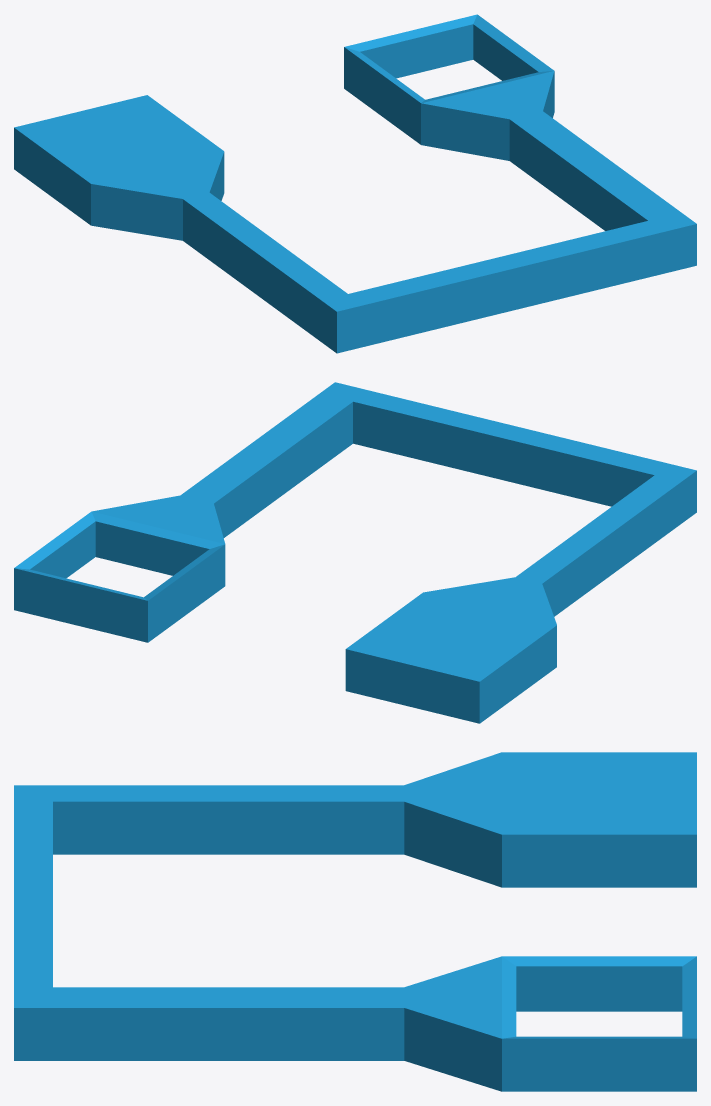
File: model_map_14.fbx
3 views of the same model, one above another, from view 1: azimuth 30°, elevation 25°; view 2: azimuth 150°, elevation 25°; view 3: azimuth 270°, elevation 25° (orthographic). The views are drawn at different scales.
Parts seen in each view (by area): view 1: lvl, col; view 2: lvl, col; view 3: lvl, col.
Boxes of the visible parts, left/top/right/bottom form: lvl: left=14, top=24, right=696, bottom=353; col: left=14, top=14, right=696, bottom=311; lvl: left=14, top=401, right=696, bottom=723; col: left=14, top=382, right=696, bottom=681; lvl: left=14, top=801, right=696, bottom=1091; col: left=14, top=752, right=696, bottom=1038.
Bounding box in the file's own units: 695 × 59.88 × 700.
